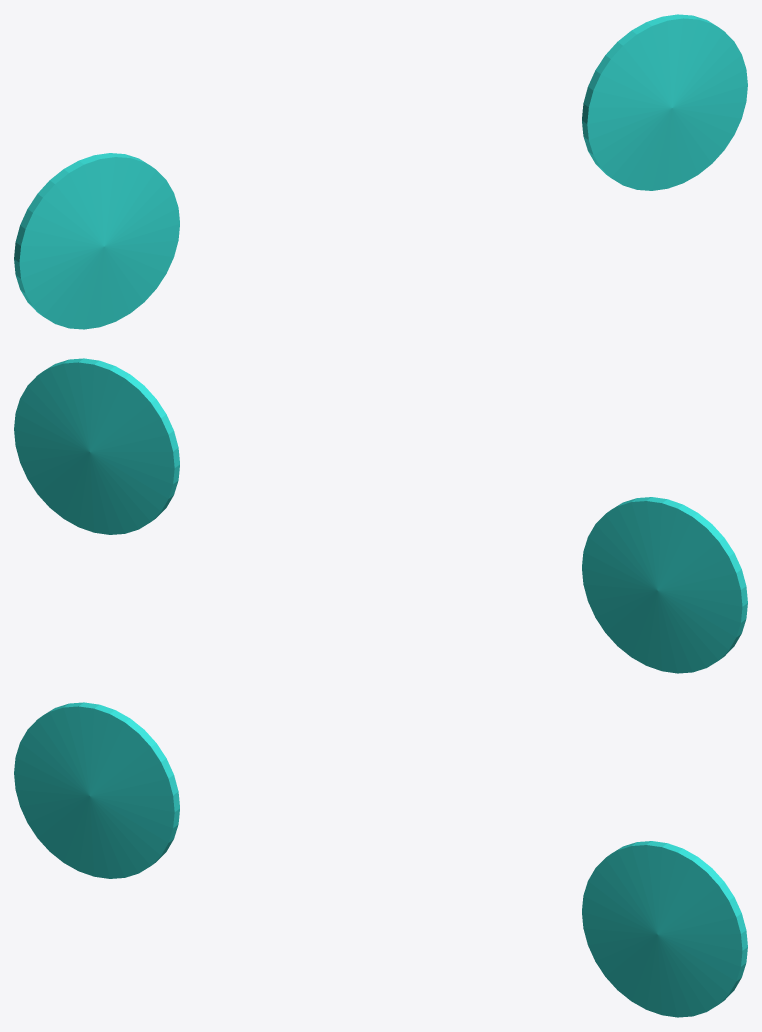
File: yeux_rond_machine_a_laver.fbx
The picture shows the model from 3 angles, top to bottom: view 1: azimuth 30°, elevation 25°; view 2: azimuth 150°, elevation 25°; view 3: azimuth 330°, elevation 25°; orthographic projection.
Parts seen in each view (by area): view 1: Circle.003; view 2: Circle.003; view 3: Circle.003.
Part boxes in pixels (bbox=[...]): Circle.003: bbox=[14, 14, 747, 329]; Circle.003: bbox=[14, 358, 747, 673]; Circle.003: bbox=[14, 702, 747, 1017].
Size of the model in its own units: 42.52 by 9.38 by 1.47.
